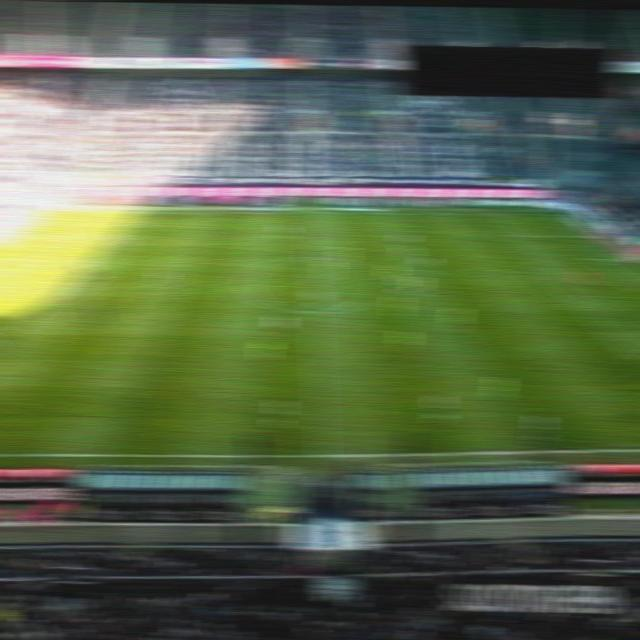bigarea_bottom_inner: (625, 351, 640, 361)
bigarea_top_inner: (496, 228, 520, 243), (101, 228, 123, 240)
bigarea_top_outter: (580, 231, 602, 242), (15, 228, 35, 238)
bottom_arc_area_intersection: (566, 297, 591, 310), (35, 299, 55, 309)
corner: (45, 207, 70, 219), (549, 208, 569, 218)
halfcircle_bottom: (305, 307, 325, 317)
halfcircle_top: (301, 251, 321, 261)
midline_bottom_intersection: (312, 448, 333, 459)
midline_top_intersection: (300, 206, 321, 217)
smallarea_top_inner: (13, 252, 33, 263), (585, 255, 607, 265)
smallarea_top_outter: (613, 252, 634, 263)
top_arc_area_intersection: (73, 255, 97, 269), (527, 255, 547, 266)
